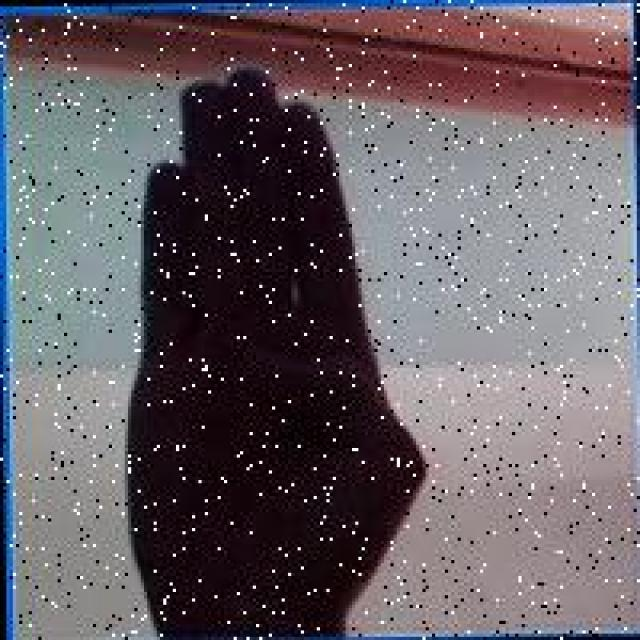B: (110, 59, 433, 638)
